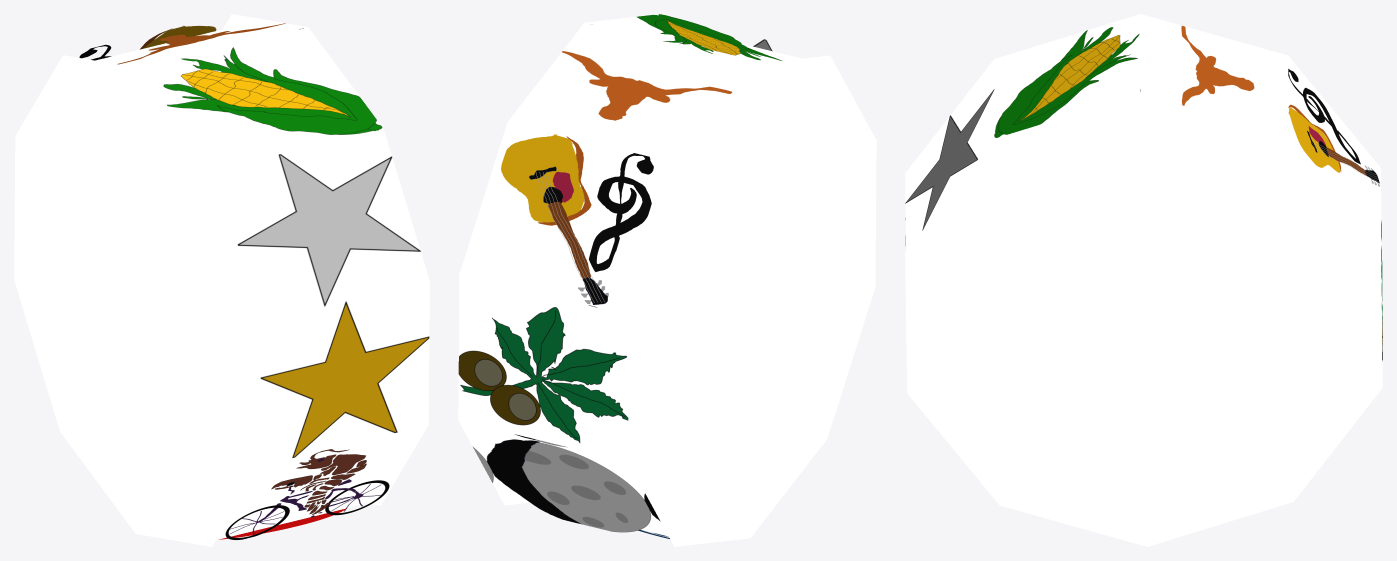
File: Slot Wheel.glb
3 views of the same model, side by side, from view 1: azimuth 30°, elevation 25°; view 2: azimuth 150°, elevation 25°; view 3: azimuth 270°, elevation 25° (orthographic). The views are drawn at different scales.
Visible parts, largest first — view 1: Slot Wheel; view 2: Slot Wheel; view 3: Slot Wheel.
Part boxes in pixels (x1,y1,x2,y2): Slot Wheel: [14, 14, 429, 546]; Slot Wheel: [458, 14, 876, 546]; Slot Wheel: [905, 14, 1382, 546].
Size of the model in its own units: 0.1396 by 0.3703 by 0.3538.
11 materials, 10 textured.
